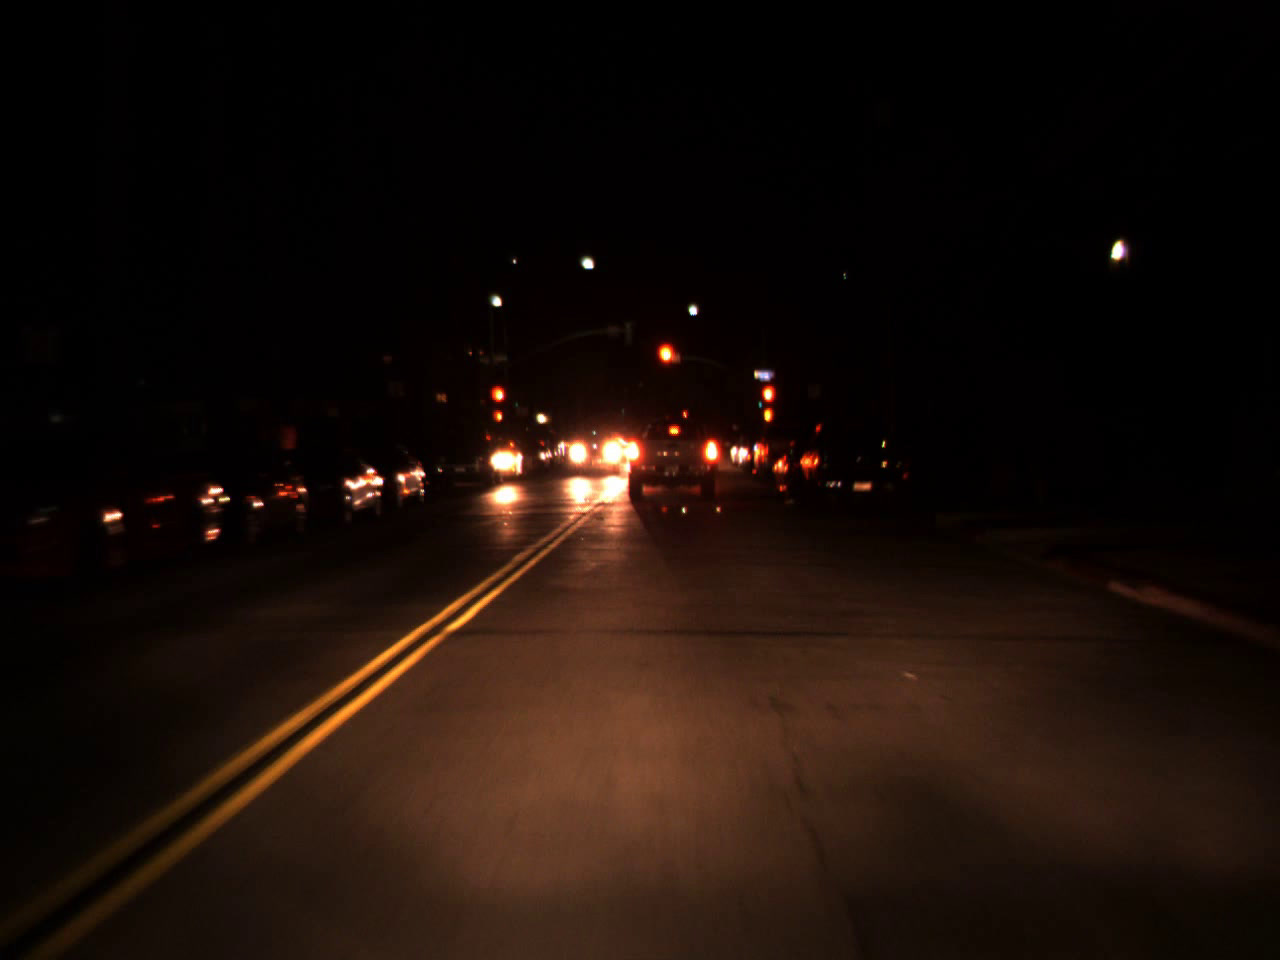stop: (655, 340, 677, 385), (759, 382, 777, 425), (489, 384, 507, 421)
